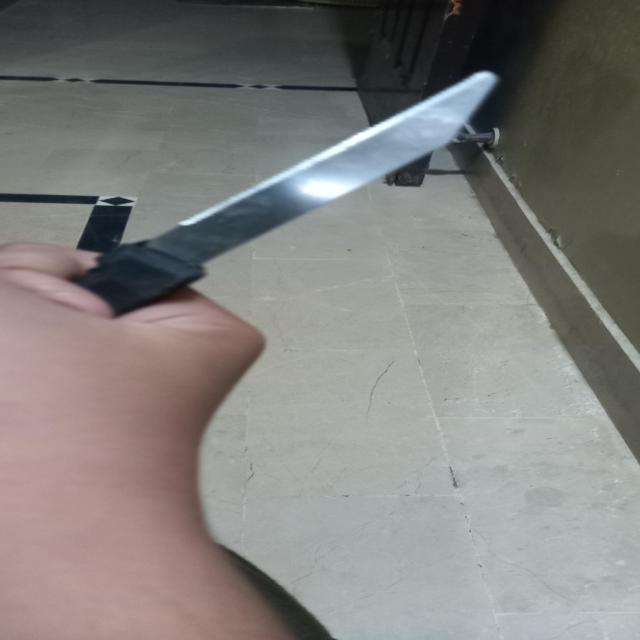Knife: (68, 72, 502, 315)
Person: (0, 239, 301, 640)
